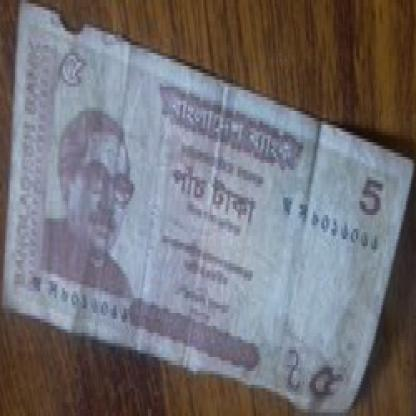Five Taka: (299, 346, 343, 413), (53, 38, 90, 111), (353, 160, 386, 226)
